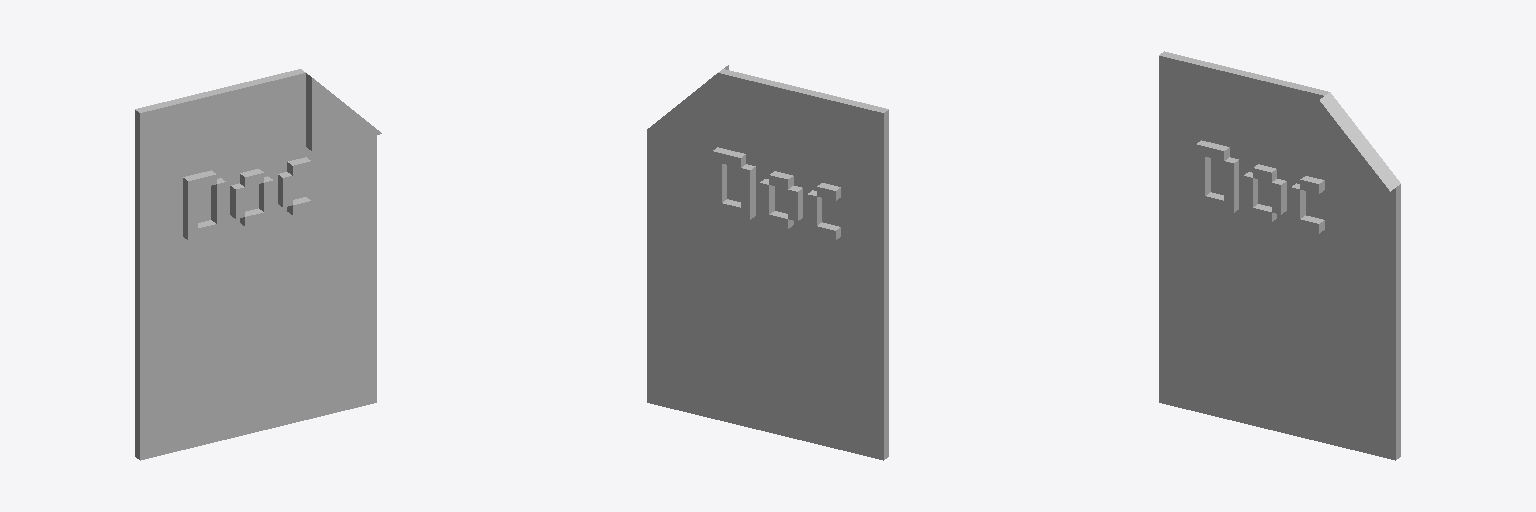
File: page.obj
3 renders of one model, left to right at view 1: azimuth 30°, elevation 25°; view 2: azimuth 150°, elevation 25°; view 3: azimuth 330°, elevation 25°, orthographic.
Visible parts, largest first — view 1: Cube.002; view 2: Cube.002; view 3: Cube.002.
Part boxes in pixels (left/top/right/bottom): Cube.002: left=135, top=69, right=381, bottom=460; Cube.002: left=647, top=65, right=888, bottom=460; Cube.002: left=1159, top=51, right=1400, bottom=460.
Bounding box in the file's own units: 0.6 × 0.84 × 0.072.